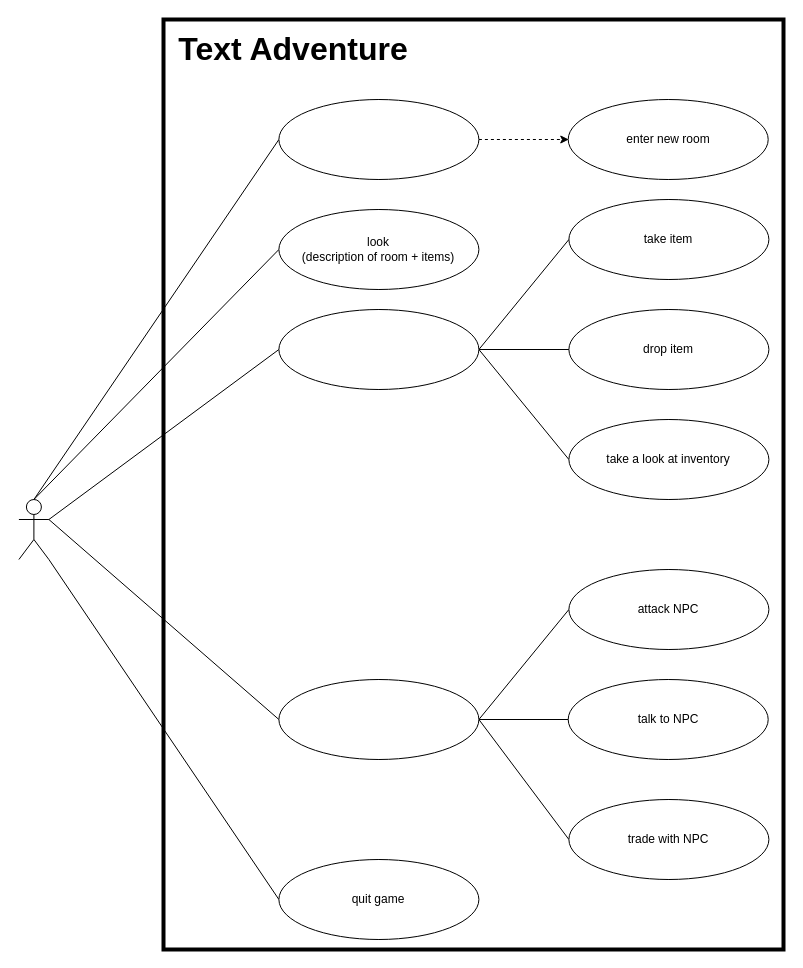
This 803x968 diagram has some shape labels left out. Each missing label, with the centre of its shape:
"item interaction" belongs at point (378, 349).
"move in direction (north, east, south, west)" belongs at point (378, 139).
"NPC interaction" belongs at point (378, 719).
"Player" belongs at point (33, 529).
